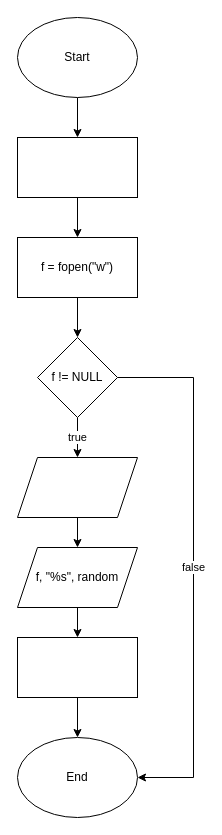
Image size: 222x835. Some labels were removed from this diagram. The shapes that lost their labels are listed below. From the top down, each one's centre as x and y in pixels, then its label:
point (77, 167): FILE *f = NULL, random[50]
point (77, 487): "%s", &random
point (77, 667): fclose(f)
